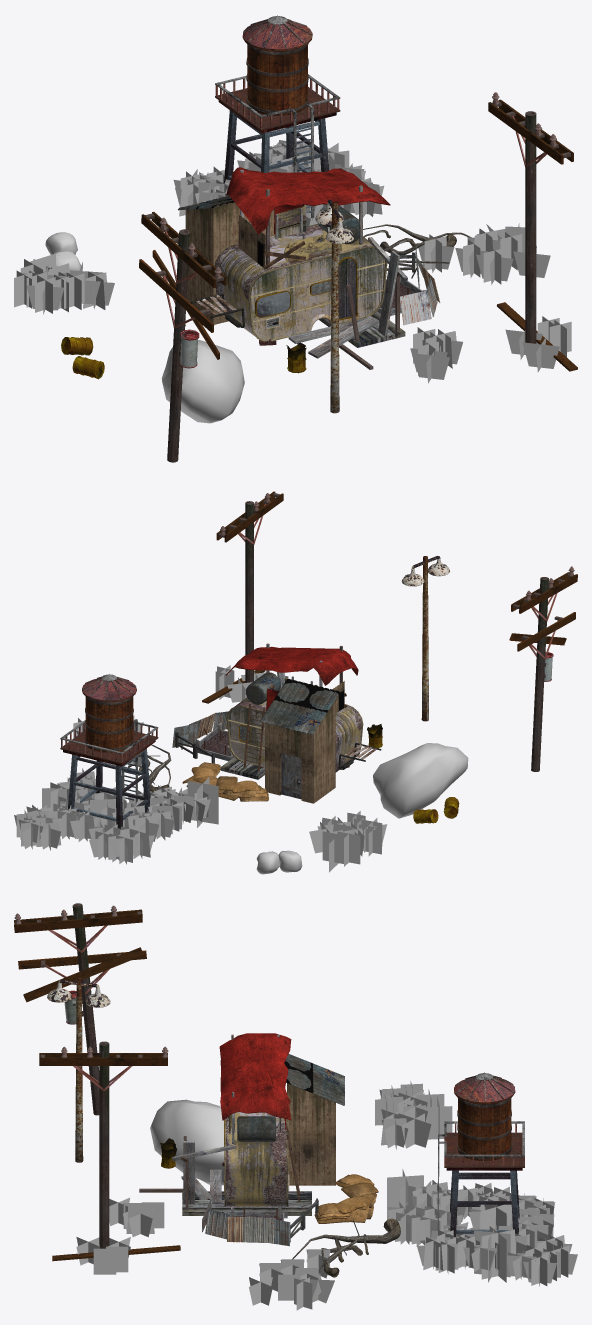
Rendered from MH_module_roulotte_00.fbx.
The picture shows the model from 3 angles, top to bottom: view 1: azimuth 30°, elevation 25°; view 2: azimuth 150°, elevation 25°; view 3: azimuth 270°, elevation 25°; orthographic projection. The views are drawn at different scales.
Parts seen in each view (by area): view 1: RoulotteMain, WaterTank, ElectricPole_00, polySurface3117, polySurface2589, polySurface3360, Grass, polySurface2874, polySurface2577, Lampost, RoulotteCorrugated, BranchClump (+2 smaller); view 2: RoulotteMain, Grass, WaterTank, polySurface3360, ElectricPole_00, RoulotteCorrugated, polySurface2874, polySurface3117, Lampost, polySurface2577, GardenMain, BranchClump; view 3: RoulotteMain, Grass, WaterTank, ElectricPole_00, polySurface3117, polySurface3360, polySurface2874, polySurface2589, polySurface2577, Lampost, RoulotteCorrugated, BranchClump (+2 smaller).
Part boxes in pixels (box(x1,y1,x2,y2)): RoulotteMain: box(185, 167, 407, 369); WaterTank: box(215, 15, 340, 217); ElectricPole_00: box(139, 212, 226, 462); polySurface3117: box(488, 92, 577, 371); polySurface2589: box(417, 223, 550, 284); polySurface3360: box(161, 340, 244, 423); Grass: box(173, 138, 384, 226); polySurface2874: box(14, 253, 114, 314); polySurface2577: box(410, 316, 571, 383); Lampost: box(315, 199, 354, 413); RoulotteCorrugated: box(178, 195, 306, 267); BranchClump: box(363, 224, 471, 263); RoulotteMain: box(182, 643, 381, 803); Grass: box(14, 768, 218, 864); WaterTank: box(60, 673, 158, 828); polySurface3360: box(373, 743, 468, 818); ElectricPole_00: box(509, 566, 577, 771); RoulotteCorrugated: box(259, 679, 344, 734); polySurface2874: box(309, 811, 387, 872); polySurface3117: box(202, 491, 283, 703); Lampost: box(401, 556, 449, 721); polySurface2577: box(215, 665, 269, 702); GardenMain: box(196, 723, 234, 761); BranchClump: box(128, 744, 171, 792); RoulotteMain: box(139, 1033, 378, 1223); Grass: box(387, 1169, 577, 1286); WaterTank: box(437, 1072, 524, 1236); ElectricPole_00: box(14, 903, 146, 1115); polySurface3117: box(39, 1041, 180, 1261); polySurface3360: box(150, 1099, 224, 1185); polySurface2874: box(375, 1081, 452, 1149); polySurface2589: box(249, 1249, 334, 1310); polySurface2577: box(76, 1197, 164, 1274); Lampost: box(47, 977, 110, 1162); RoulotteCorrugated: box(280, 1054, 344, 1131); BranchClump: box(292, 1218, 400, 1277).
Bounding box in the file's own units: 23.98 × 13.71 × 27.88.
